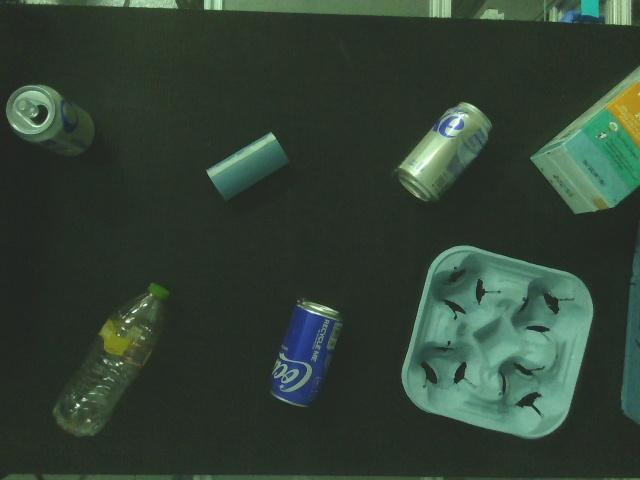cardboard: (394, 243, 594, 442), (527, 63, 640, 217), (206, 126, 294, 204)
metal: (392, 97, 498, 207), (266, 295, 348, 413), (4, 82, 98, 160)
plastic: (51, 280, 173, 444)
